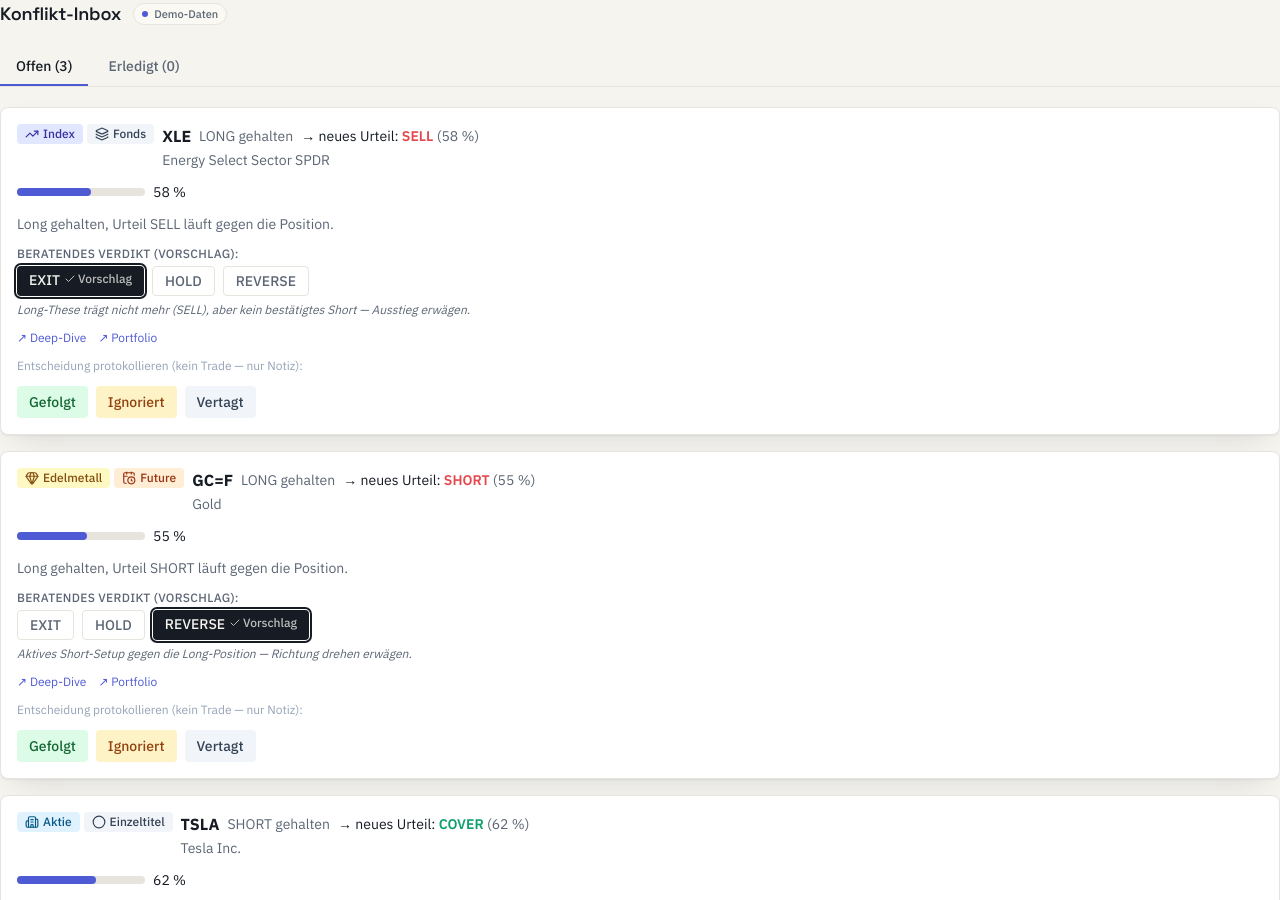
Test: InboxPage (US28/US30) › Abarbeiten (Gefolgt) verschiebt XLE von Offen nach Erledigt
Expected: the link "XLE" is shown, top-left (162, 124), bottom-right (191, 148)
# Klick auf "Gefolgt" bei der XLE-Karte
Click the button "Gefolgt" below "Energy Select Sector SPDR". click: (52, 402)
box: top-left (17, 386), bottom-right (88, 418)
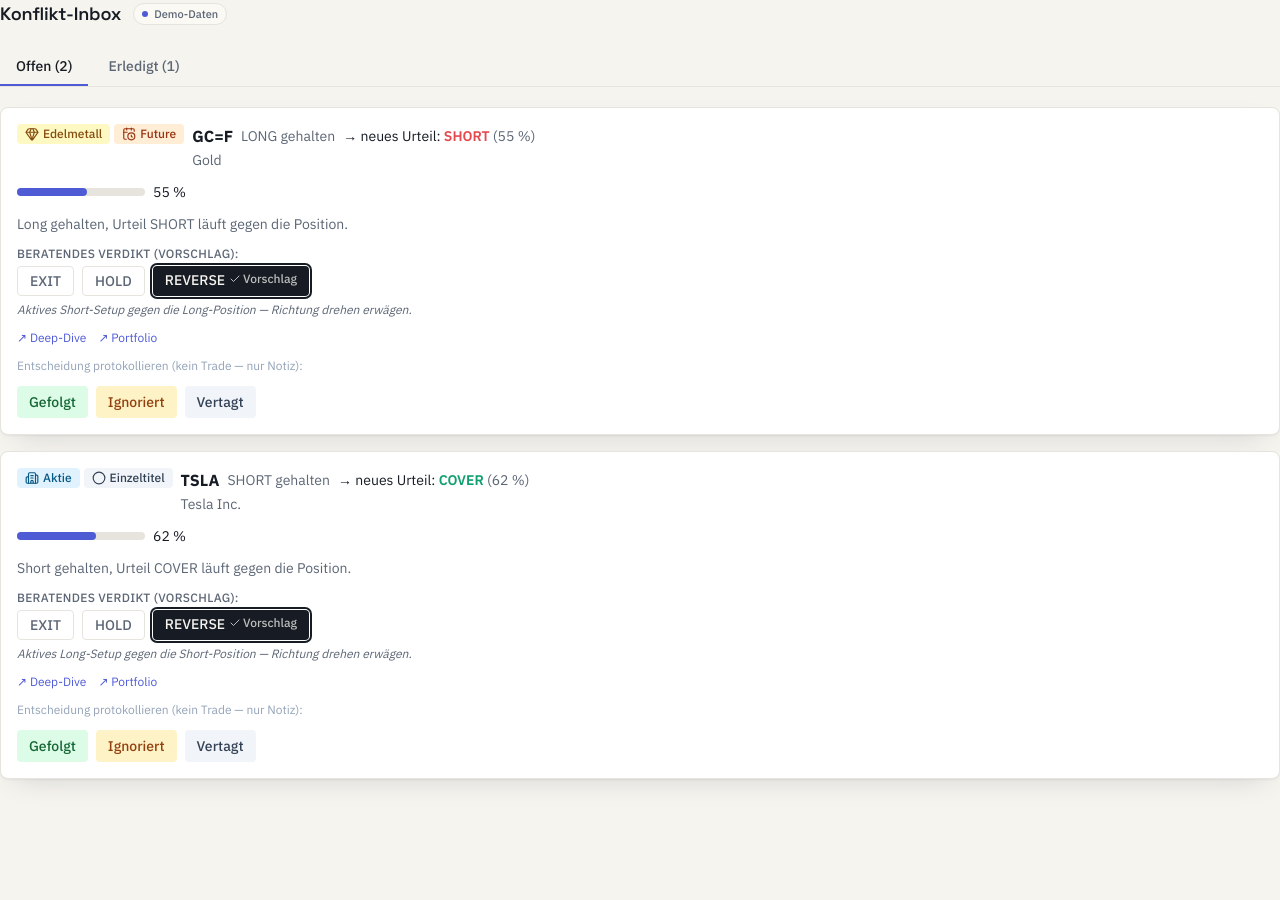
Click the tab "Erledigt (1)". click: (144, 67)
box: top-left (92, 48), bottom-right (196, 86)
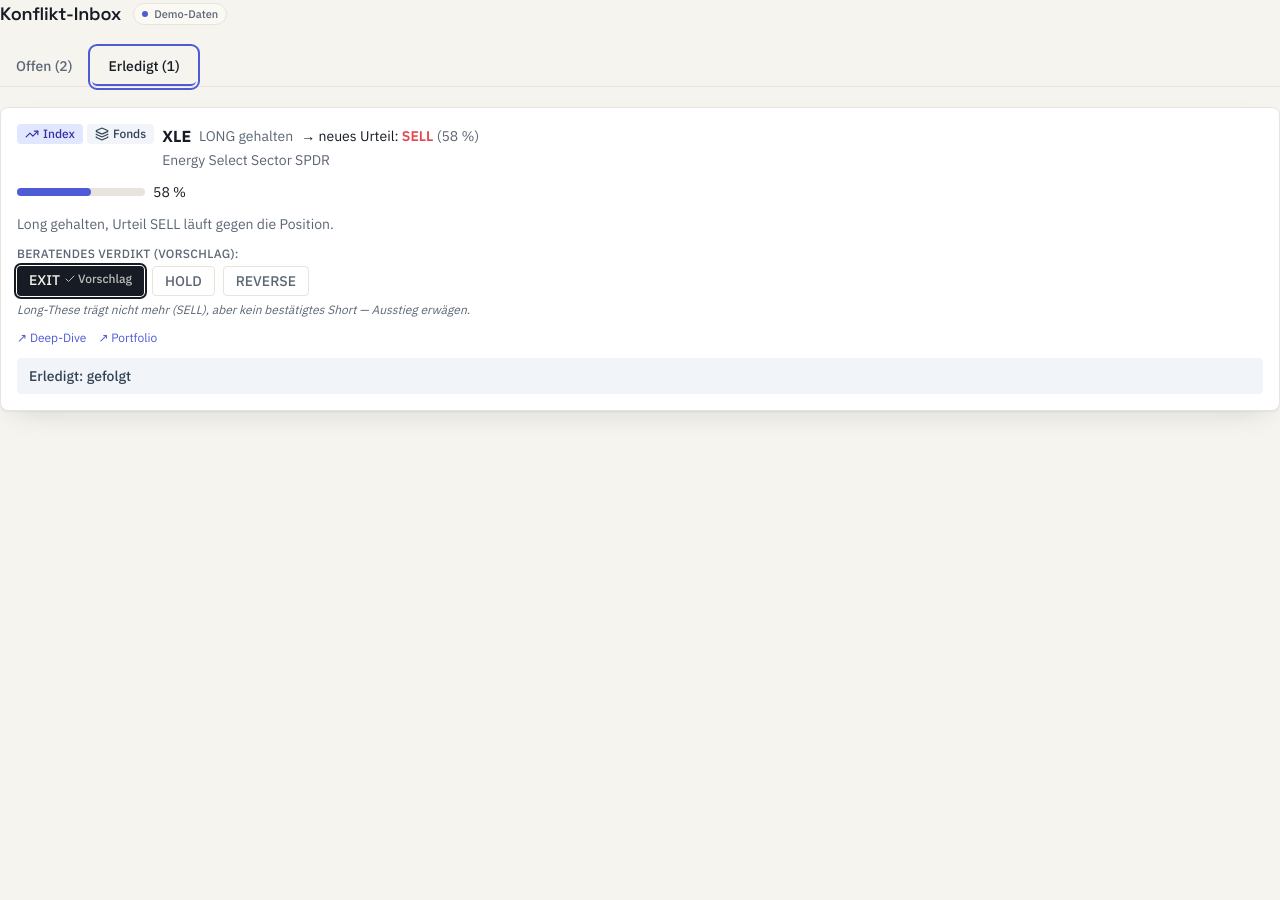
Expected: the text "Erledigt: gefolgt" is shown, top-left (29, 367), bottom-right (131, 385)
